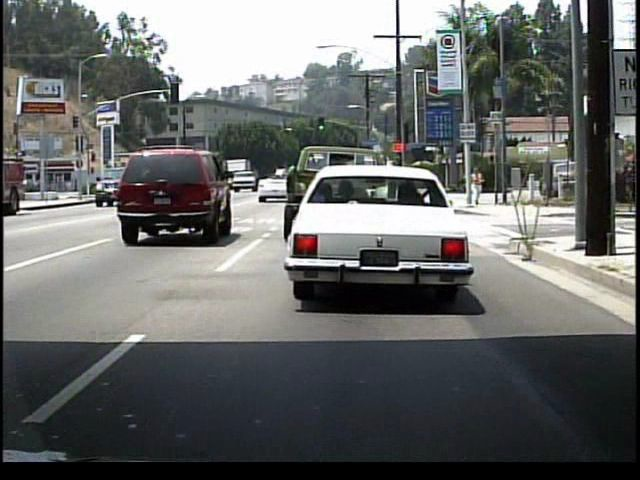person: (472, 167, 486, 207)
